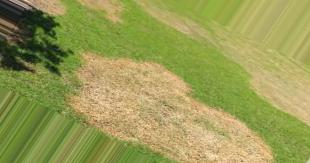patch: (94, 63, 226, 154), (171, 12, 297, 92), (36, 1, 63, 18), (94, 1, 112, 16)
